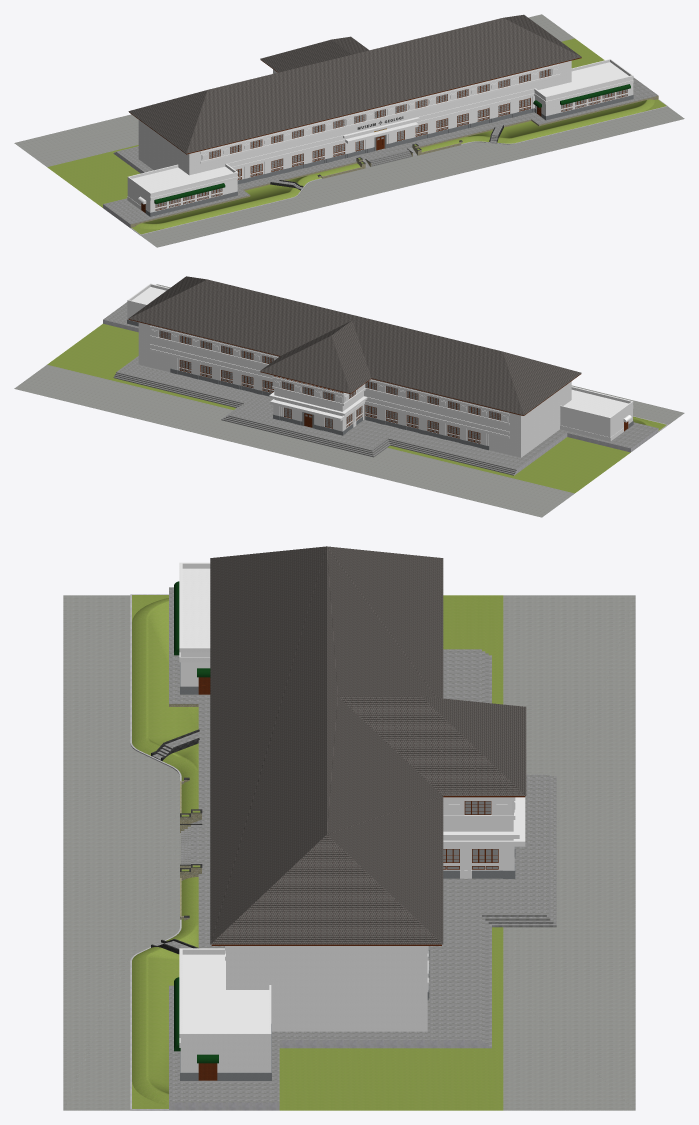
Rendered from museum.gltf.
3 renders of one model, top to bottom at view 1: azimuth 30°, elevation 25°; view 2: azimuth 150°, elevation 25°; view 3: azimuth 270°, elevation 25°, orthographic. The views are drawn at different scales.
Parts seen in each view (by area): view 1: skfb_offset; view 2: skfb_offset; view 3: skfb_offset.
Boxes of the visible parts, x1,y1,x2,y2 form: skfb_offset: (14, 14, 684, 247); skfb_offset: (14, 276, 684, 517); skfb_offset: (63, 546, 635, 1110).
Bounding box in the file's own units: 110012 × 16183 × 51616.
17 materials, 13 textured.
